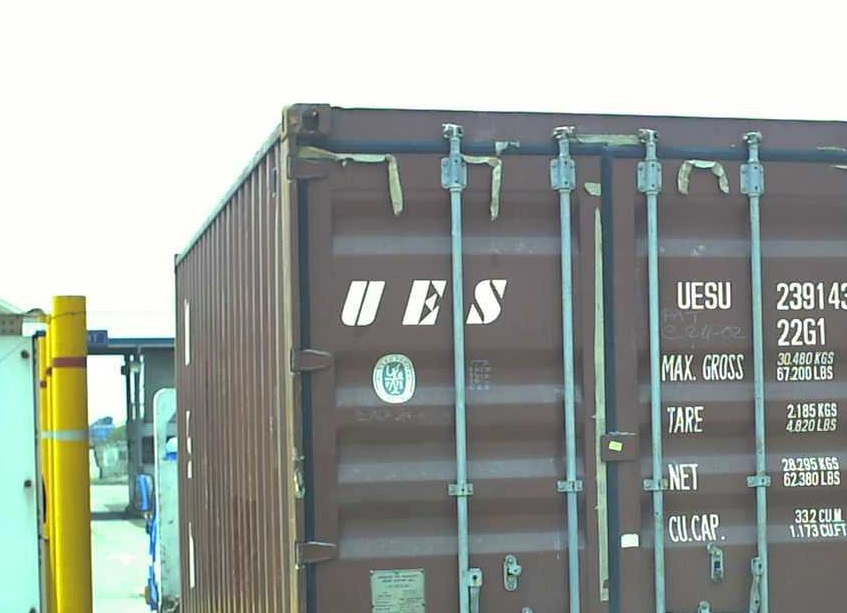container_door: (288, 100, 843, 610)
